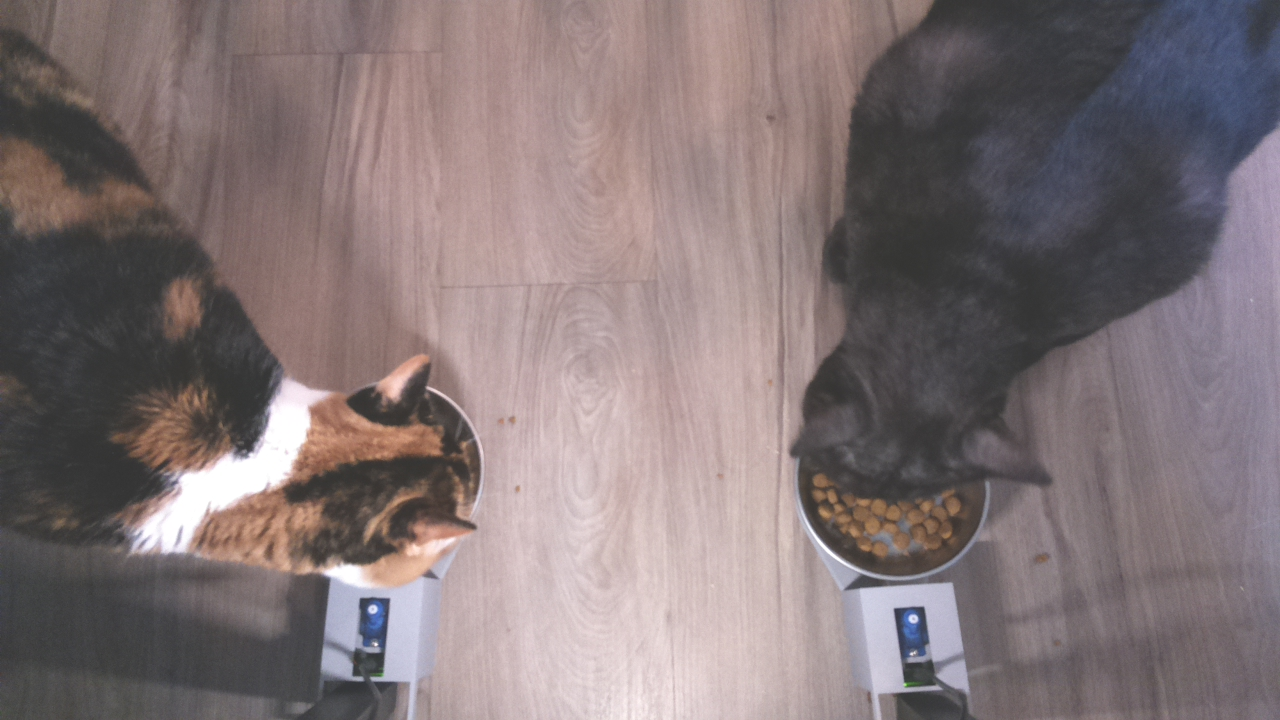bella_eating: (249, 334, 505, 596)
saki_eating: (784, 292, 1066, 587)
